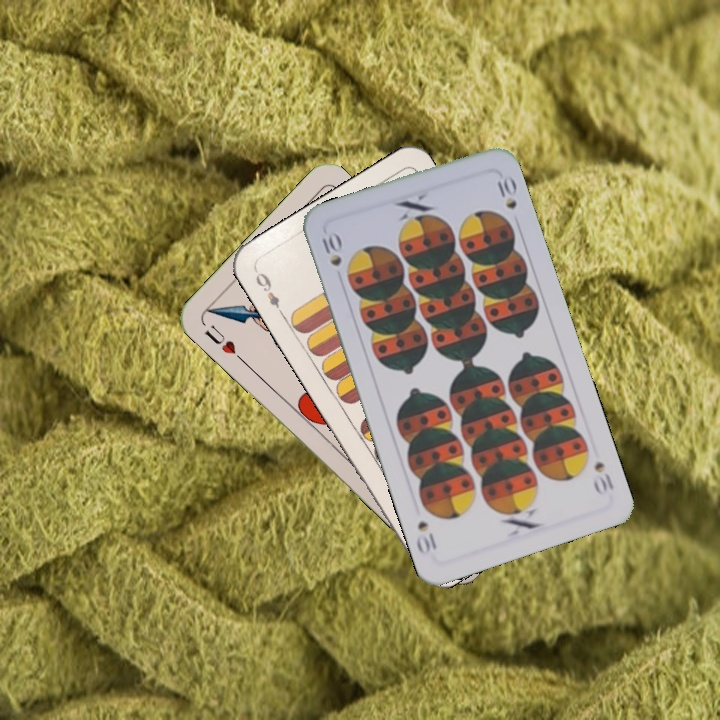E9: (251, 266, 287, 319)
HU: (200, 320, 246, 364)
S10: (316, 228, 345, 269), (590, 457, 617, 498)
